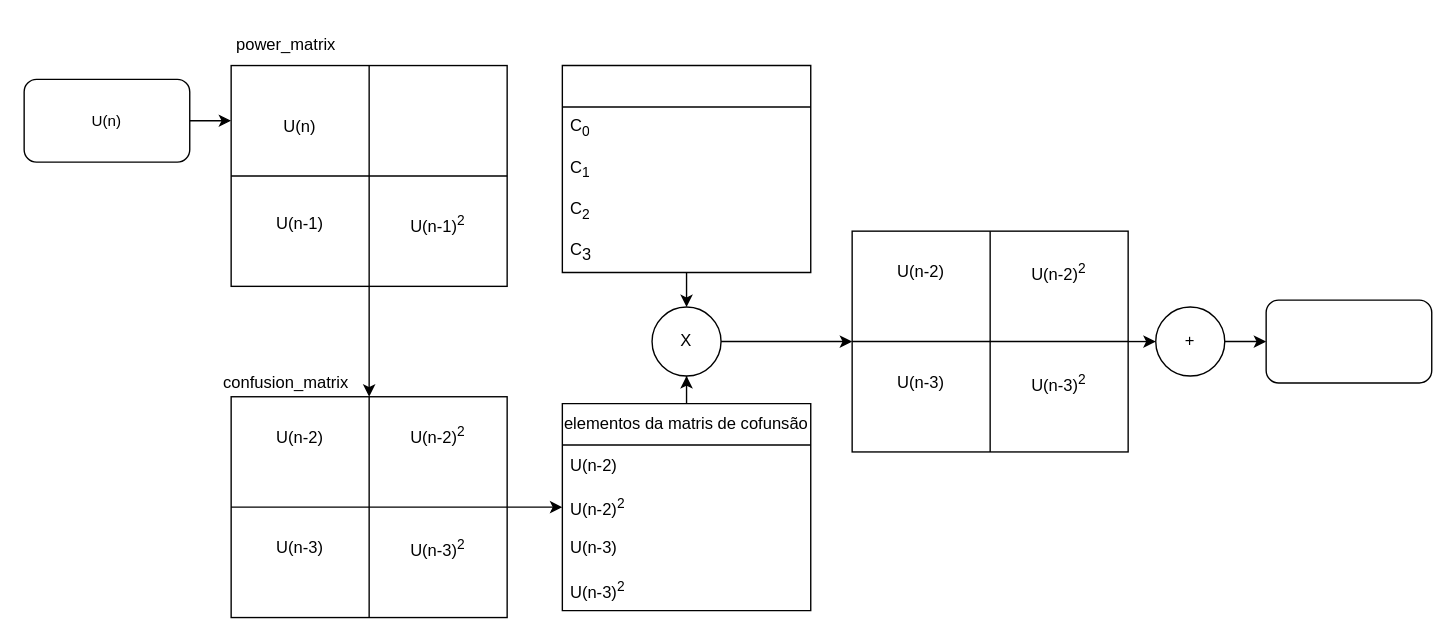
Some shapes in this 1456 by 642 pixel diagram are drawn without their labels. The box of each missing label's shape, as (x1, y1, x2, y2) in pixels:
Coeficientes: (561, 64, 811, 273)
Uout(n): (1265, 299, 1432, 383)
